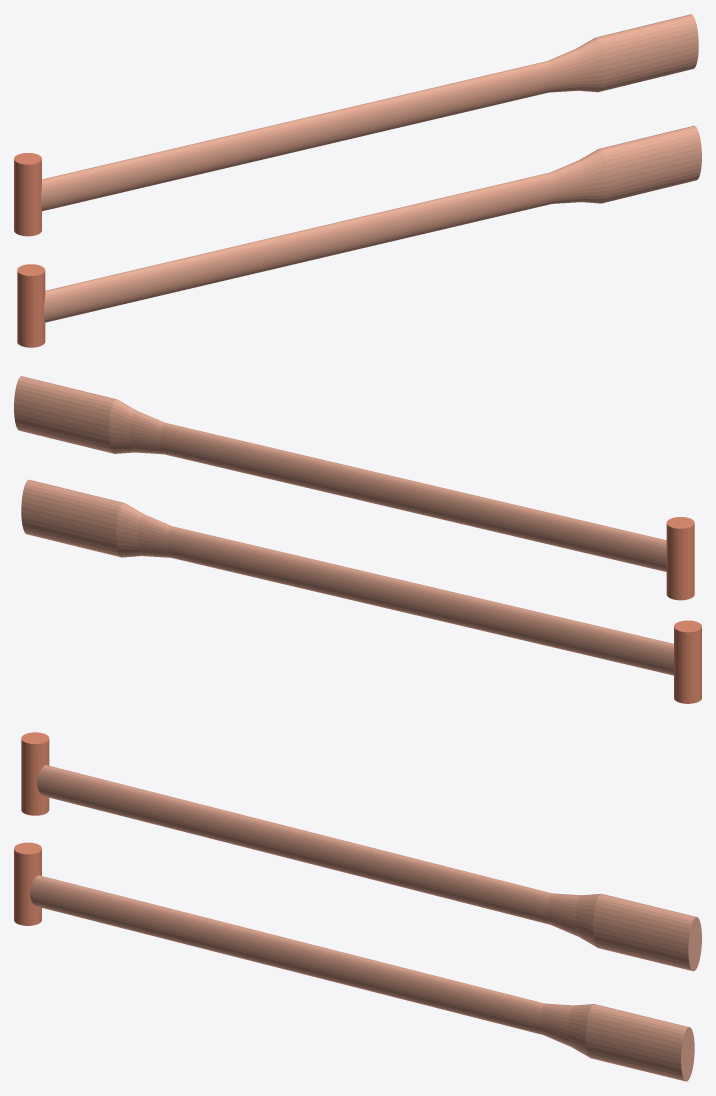
Rendered from Paddle2.fbx.
The picture shows the model from 3 angles, top to bottom: view 1: azimuth 30°, elevation 25°; view 2: azimuth 150°, elevation 25°; view 3: azimuth 330°, elevation 25°; orthographic projection.
Visible parts, largest first — view 1: Cylinder.001, Cylinder.003, Cylinder, Cylinder.002; view 2: Cylinder.003, Cylinder.001, Cylinder.002, Cylinder; view 3: Cylinder.001, Cylinder.003, Cylinder.002, Cylinder.
Boxes of the visible parts, x1,y1,x2,y2 form: Cylinder.001: (44, 125, 701, 322); Cylinder.003: (41, 14, 698, 211); Cylinder: (17, 264, 45, 347); Cylinder.002: (14, 153, 41, 236); Cylinder.003: (14, 376, 666, 571); Cylinder.001: (21, 479, 673, 675); Cylinder.002: (666, 517, 694, 600); Cylinder: (674, 620, 701, 703); Cylinder.001: (29, 875, 694, 1081); Cylinder.003: (37, 765, 701, 971); Cylinder.002: (21, 732, 49, 815); Cylinder: (14, 842, 41, 925).
Size of the model in its own units: 1125 by 284 by 59.76.
